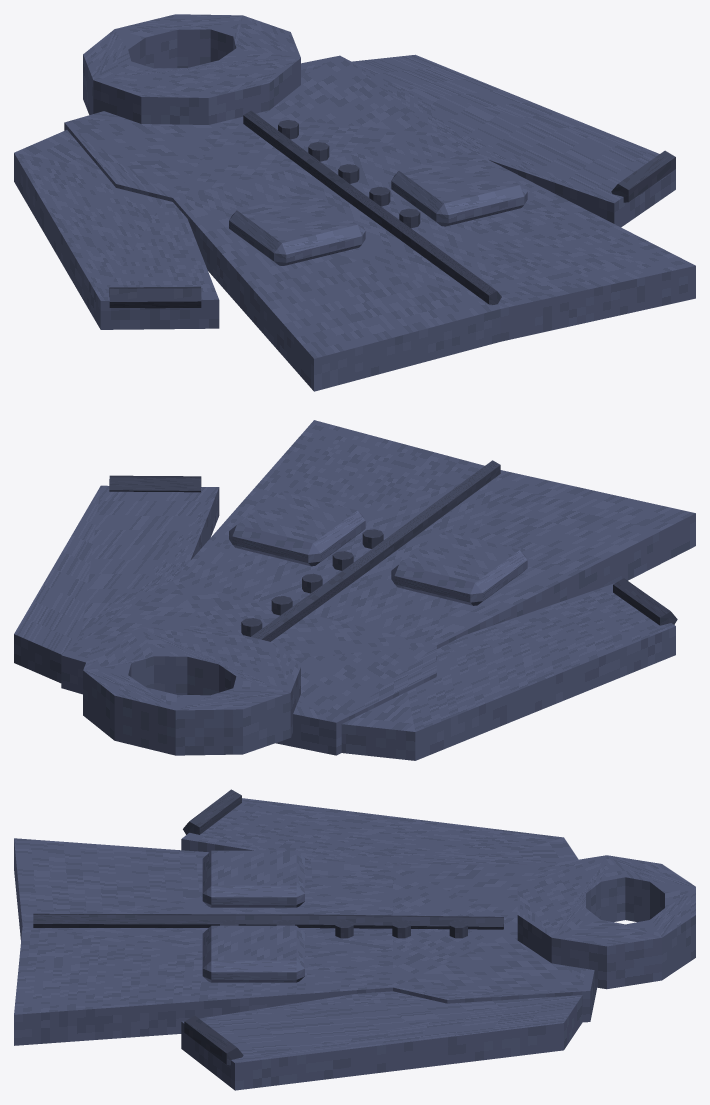
Rendered from robe_wizard.glb.
3 renders of one model, top to bottom at view 1: azimuth 30°, elevation 25°; view 2: azimuth 150°, elevation 25°; view 3: azimuth 270°, elevation 25°, orthographic. The views are drawn at different scales.
Parts seen in each view (by area): view 1: block_garment body, block_sleeve (×2), block_folded fabric hood, block_raised front pocket (×2), block_cuff 0 (×2), block_front closure 1, block_front closure 0; view 2: block_garment body, block_sleeve (×2), block_folded fabric hood, block_raised front pocket (×2), block_front closure 1, block_cuff 0 (×2), block_front closure 0; view 3: block_garment body, block_sleeve (×2), block_folded fabric hood, block_raised front pocket (×2), block_front closure 1, block_cuff 0 (×2), block_front closure 0.
Boxes of the visible parts, x1=… form: block_garment body: x1=64, y1=55, x2=695, y2=391; block_sleeve (×2): x1=14, y1=54, x2=675, y2=329; block_folded fabric hood: x1=83, y1=14, x2=300, y2=124; block_raised front pocket (×2): x1=229, y1=152, x2=527, y2=265; block_cuff 0 (×2): x1=109, y1=150, x2=675, y2=308; block_front closure 1: x1=343, y1=185, x2=501, y2=304; block_front closure 0: x1=243, y1=110, x2=350, y2=197; block_garment body: x1=61, y1=420, x2=695, y2=755; block_sleeve (×2): x1=14, y1=485, x2=675, y2=760; block_folded fabric hood: x1=83, y1=626, x2=300, y2=755; block_raised front pocket (×2): x1=229, y1=492, x2=527, y2=605; block_front closure 1: x1=347, y1=460, x2=500, y2=580; block_cuff 0 (×2): x1=109, y1=475, x2=677, y2=625; block_front closure 0: x1=251, y1=568, x2=354, y2=641; block_garment body: x1=14, y1=838, x2=596, y2=1045; block_sleeve (×2): x1=181, y1=798, x2=582, y2=1090; block_folded fabric hood: x1=517, y1=855, x2=695, y2=989; block_raised front pocket (×2): x1=202, y1=850, x2=304, y2=982; block_front closure 1: x1=33, y1=913, x2=309, y2=927; block_cuff 0 (×2): x1=183, y1=789, x2=243, y2=1065; block_front closure 0: x1=309, y1=914, x2=503, y2=929.
Size of the model in its own units: 0.7401 by 0.0737 by 0.802.
1 material, 1 textured.
